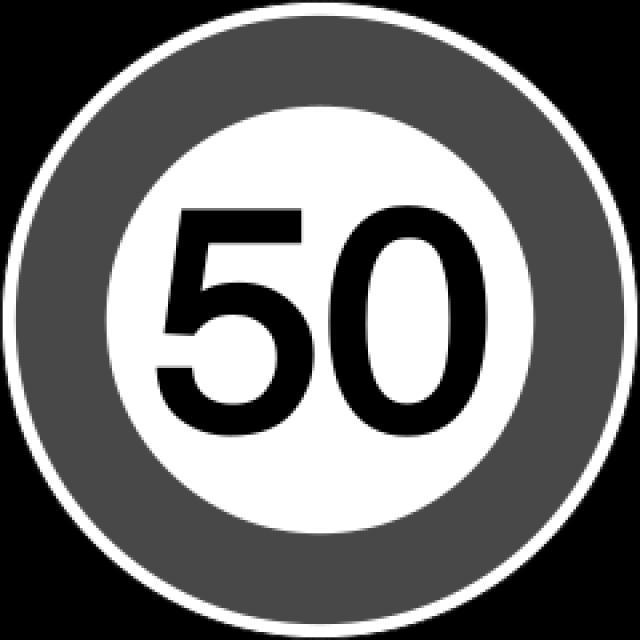speed limit 50: (22, 16, 624, 627)
